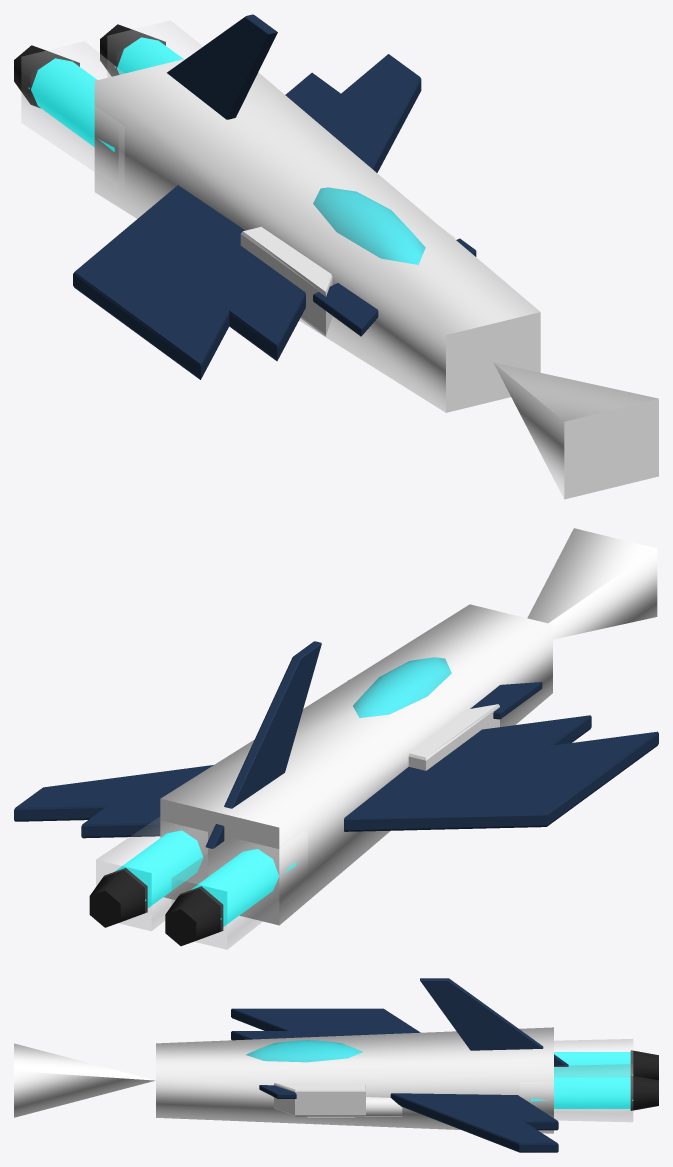
The model's file is fighter_player_260801_141.glb.
3 views of the same model, one above another, from view 1: azimuth 30°, elevation 25°; view 2: azimuth 150°, elevation 25°; view 3: azimuth 270°, elevation 25° (orthographic). The views are drawn at different scales.
Parts seen in each view (by area): view 1: MainFuselage, MainWing_L, MainWing_R, NoseCone, EngineShell_L, VerticalTail, Canopy, EngineCore_L, Intake_R, EngineShell_R, Canard_R, EngineCore_R (+2 smaller); view 2: MainFuselage, MainWing_R, NoseCone, EngineShell_L, MainWing_L, EngineShell_R, VerticalTail, EngineCore_L, EngineCore_R, Canopy, EngineNozzle_L, EngineNozzle_R (+2 smaller); view 3: MainFuselage, MainWing_L, NoseCone, MainWing_R, EngineShell_R, VerticalTail, Intake_L, EngineShell_L, EngineCore_R, EngineCore_L, Canopy, EngineNozzle_R (+3 smaller).
Boxes of the visible parts, <box> form: MainFuselage: <box>94,58,540,412</box>; MainWing_L: <box>151,54,421,361</box>; MainWing_R: <box>73,72,342,379</box>; NoseCone: <box>494,362,658,499</box>; EngineShell_L: <box>21,41,124,187</box>; VerticalTail: <box>167,14,277,119</box>; Canopy: <box>313,187,425,264</box>; EngineCore_L: <box>28,58,114,151</box>; Intake_R: <box>240,227,332,336</box>; EngineShell_R: <box>107,20,202,76</box>; Canard_R: <box>313,283,378,336</box>; EngineCore_R: <box>115,37,183,74</box>; MainFuselage: <box>160,604,552,925</box>; MainWing_R: <box>81,731,658,838</box>; NoseCone: <box>527,528,657,639</box>; EngineShell_L: <box>172,832,307,949</box>; MainWing_L: <box>14,715,591,821</box>; EngineShell_R: <box>96,817,207,930</box>; VerticalTail: <box>205,641,321,848</box>; EngineCore_L: <box>191,849,295,926</box>; EngineCore_R: <box>114,830,203,908</box>; Canopy: <box>353,657,451,717</box>; EngineNozzle_L: <box>165,886,223,946</box>; EngineNozzle_R: <box>89,868,147,927</box>; MainFuselage: <box>156,1027,553,1133</box>; MainWing_L: <box>231,1031,558,1152</box>; NoseCone: <box>14,1043,155,1117</box>; MainWing_R: <box>231,1008,558,1130</box>; EngineShell_R: <box>520,1064,632,1121</box>; VerticalTail: <box>420,978,568,1066</box>; Intake_L: <box>274,1082,365,1116</box>; EngineShell_L: <box>554,1039,632,1076</box>; EngineCore_R: <box>531,1077,633,1108</box>; EngineCore_L: <box>554,1052,632,1077</box>; Canopy: <box>246,1040,362,1062</box>; EngineNozzle_R: <box>630,1075,658,1110</box>.
Bounding box in the file's own units: 3.38 × 1.57 × 6.81.
